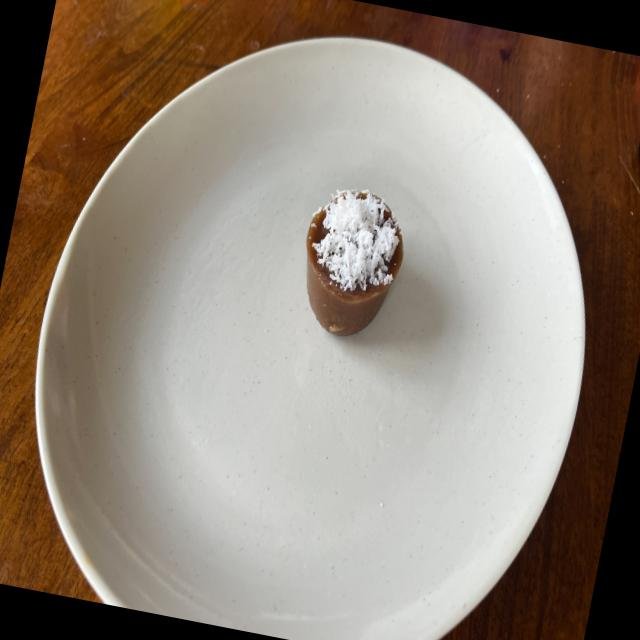Kuih lompang: (306, 189, 403, 336)
